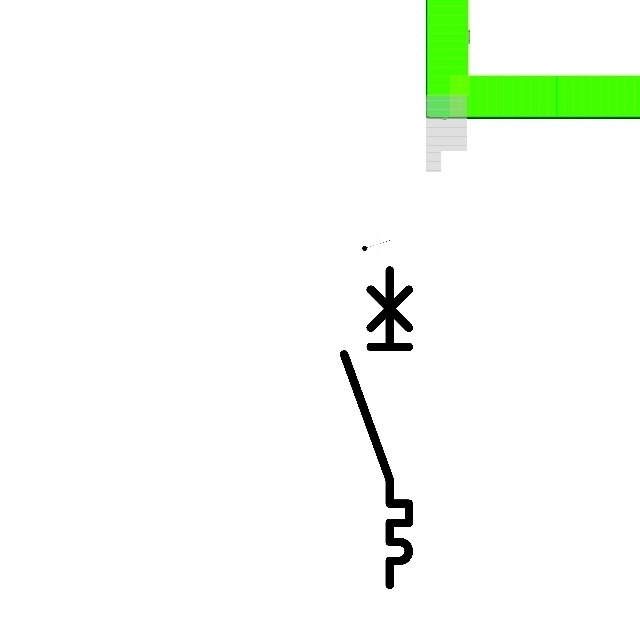interruptor_termomagnetico: (336, 262, 417, 592)
